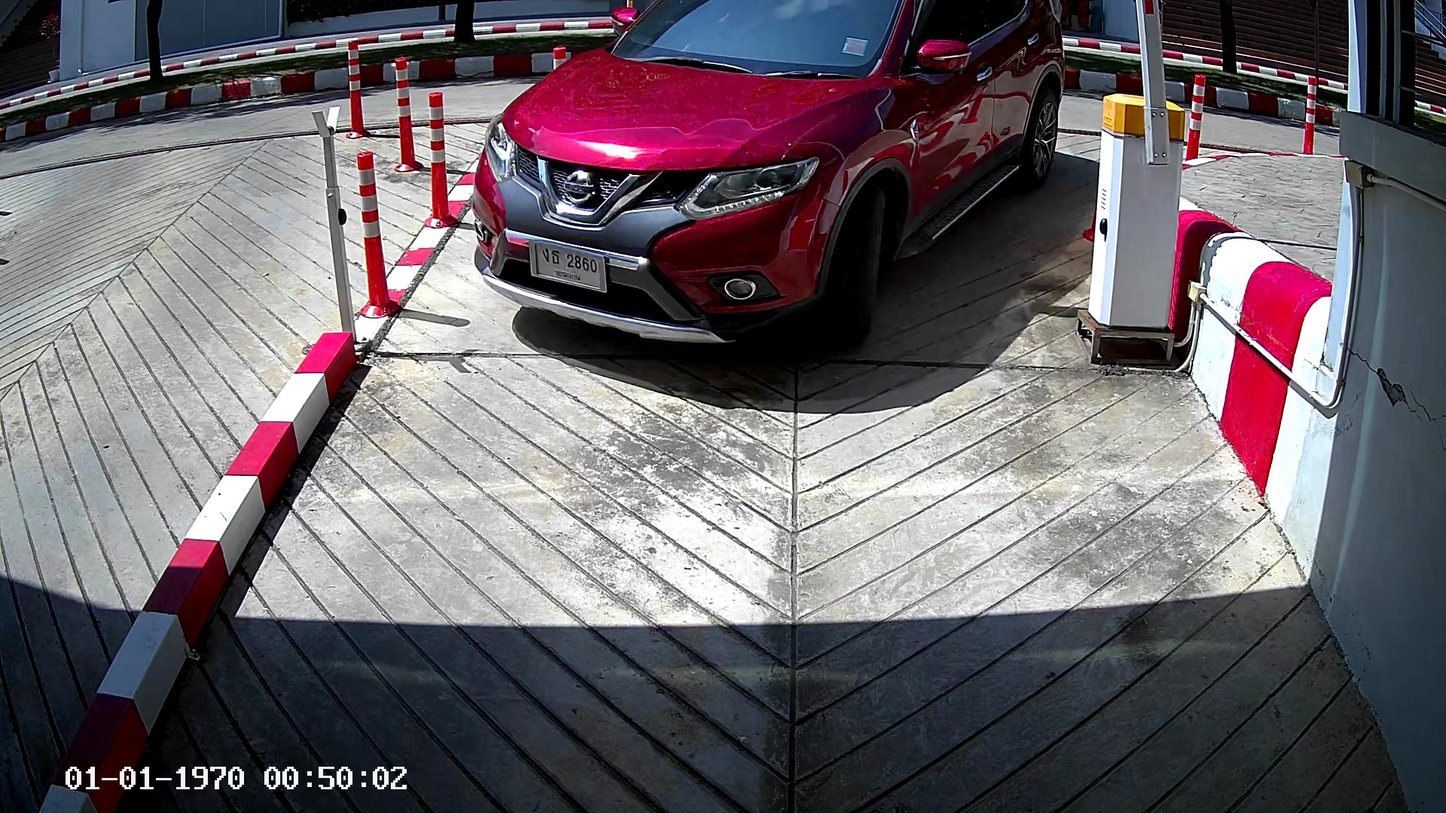car: (470, 2, 1063, 359)
license-plate: (530, 234, 609, 298)
